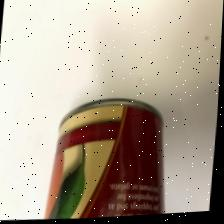metal: (44, 60, 194, 222)
